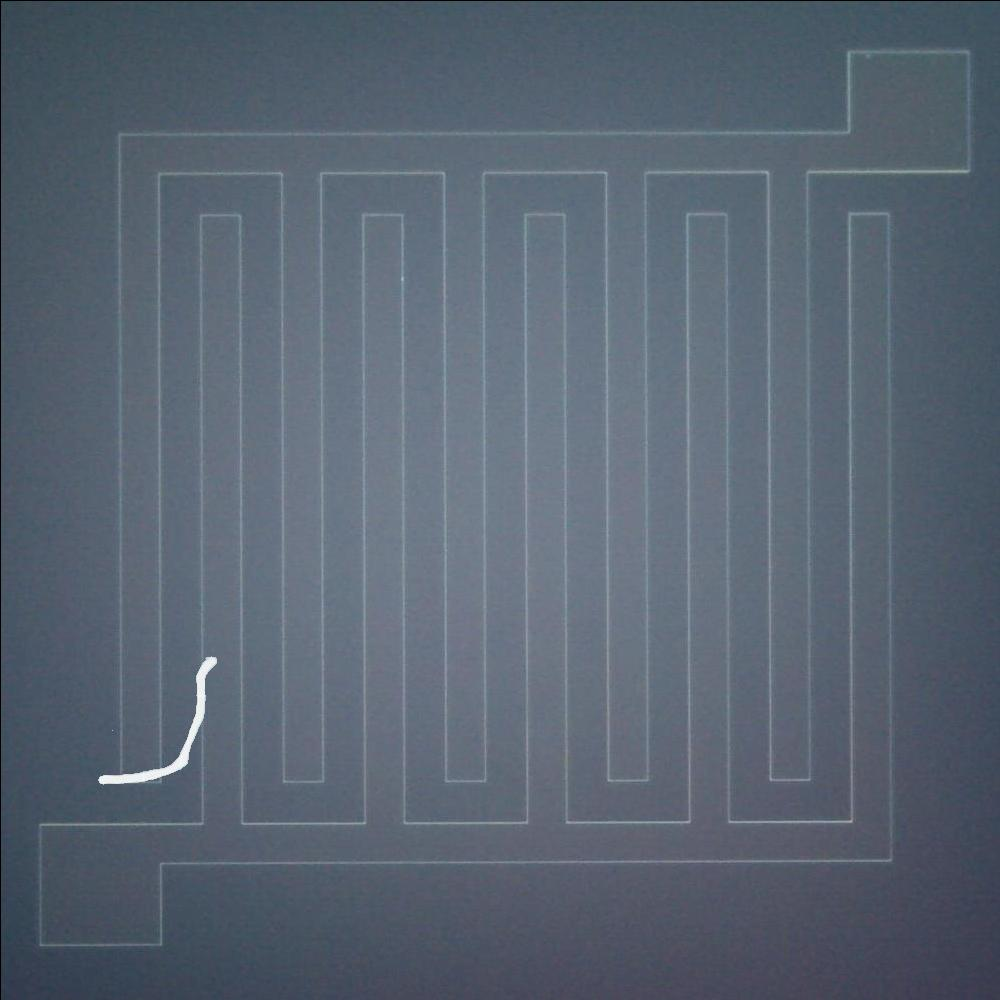line: (88, 647, 224, 800)
